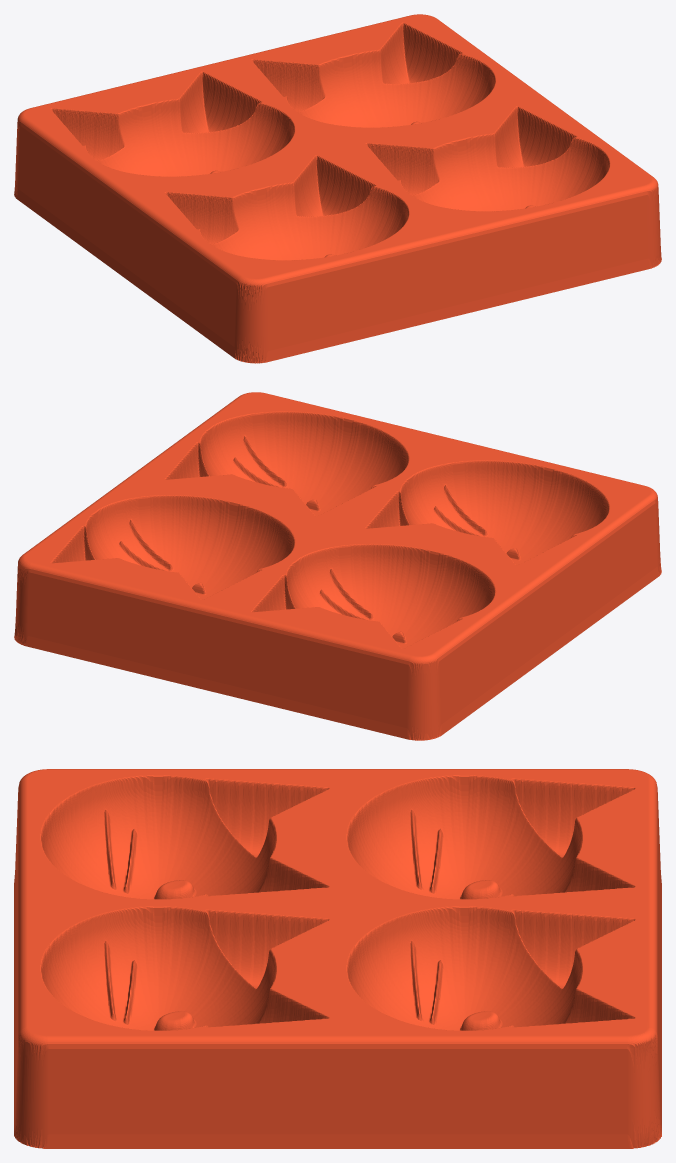
File: mold.glb
3 views of the same model, one above another, from view 1: azimuth 30°, elevation 25°; view 2: azimuth 150°, elevation 25°; view 3: azimuth 270°, elevation 25° (orthographic). The views are drawn at different scales.
Visible parts, largest first — view 1: geometry_0; view 2: geometry_0; view 3: geometry_0.
Part boxes in pixels (x1=…): geometry_0: x1=14, y1=14, x2=661, y2=363; geometry_0: x1=14, y1=392, x2=661, y2=740; geometry_0: x1=14, y1=769, x2=661, y2=1148.
Size of the model in its own units: 0.1721 by 0.031 by 0.1699.
